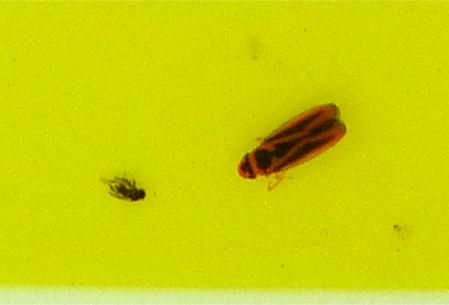Brachycera: (100, 172, 149, 205)
Hemiptera: (235, 100, 349, 183)
